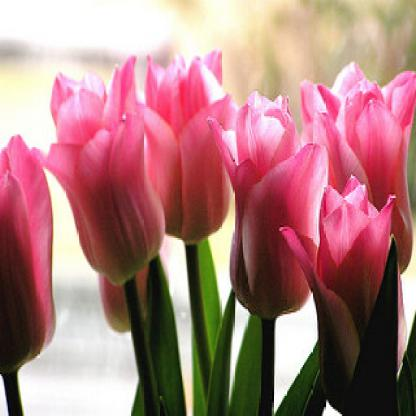TULIP: (5, 28, 413, 366)
